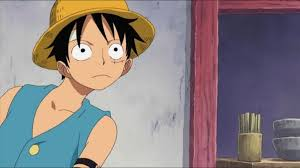luffy: (1, 1, 157, 168)
